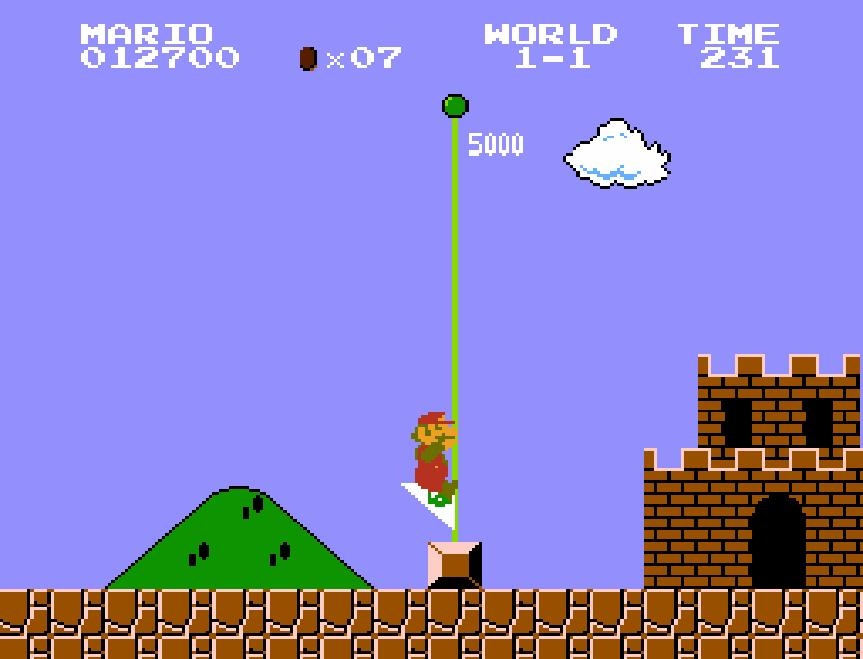big_mario: (402, 404, 461, 502)
